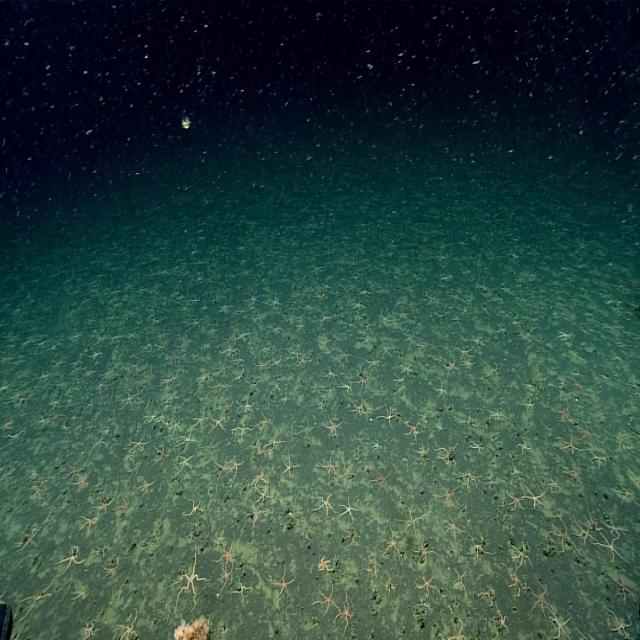brittle-stars: (163, 540, 210, 617), (13, 572, 58, 629), (524, 573, 559, 630), (394, 500, 434, 545), (12, 514, 43, 568), (408, 568, 447, 607), (308, 579, 344, 621), (269, 562, 302, 606), (546, 509, 574, 558), (333, 586, 358, 640), (596, 528, 628, 570), (51, 540, 90, 574), (113, 606, 149, 640), (462, 531, 496, 567), (433, 434, 463, 474), (409, 536, 441, 572), (214, 528, 240, 572), (502, 557, 528, 601), (602, 605, 634, 640), (612, 474, 640, 514), (99, 550, 127, 588), (439, 511, 471, 544), (522, 475, 548, 515), (546, 607, 576, 640), (68, 572, 94, 610), (371, 460, 394, 502), (382, 519, 401, 568), (608, 573, 636, 606), (576, 419, 604, 452), (570, 513, 595, 549), (552, 431, 585, 458), (437, 614, 471, 640), (173, 426, 202, 455), (263, 422, 291, 452), (434, 481, 462, 511), (508, 539, 538, 567), (255, 406, 281, 438), (317, 486, 338, 525), (492, 599, 513, 638), (72, 464, 96, 498), (74, 507, 102, 536), (504, 482, 527, 517), (314, 548, 340, 578), (234, 571, 255, 608), (293, 414, 318, 445), (376, 398, 398, 433), (450, 560, 469, 600), (149, 437, 172, 470), (243, 501, 270, 529), (601, 512, 629, 539), (321, 412, 347, 441), (475, 578, 500, 608), (339, 490, 361, 523), (318, 450, 342, 480), (215, 562, 235, 597), (566, 459, 588, 490), (198, 432, 222, 460), (361, 552, 382, 584), (350, 390, 368, 427), (209, 453, 231, 483), (468, 432, 490, 462), (217, 331, 237, 364), (184, 494, 206, 523), (158, 384, 185, 407), (80, 612, 102, 640), (252, 482, 276, 507), (128, 429, 154, 452), (460, 465, 483, 491), (438, 352, 461, 378), (238, 391, 260, 418), (366, 431, 388, 458), (513, 433, 535, 460), (558, 398, 577, 429), (431, 376, 452, 404), (28, 477, 51, 502), (118, 386, 141, 411), (228, 420, 254, 442), (338, 370, 357, 400), (339, 460, 360, 487), (520, 390, 540, 418), (362, 393, 380, 424), (96, 490, 115, 519), (114, 491, 134, 518), (340, 522, 362, 546), (229, 450, 246, 481), (192, 404, 210, 433), (250, 465, 268, 494), (335, 342, 355, 368), (136, 475, 158, 498), (209, 412, 231, 435), (280, 454, 298, 482), (177, 450, 197, 475), (592, 448, 614, 470), (156, 367, 179, 388), (584, 514, 608, 534), (546, 471, 563, 499), (484, 356, 501, 384), (91, 539, 110, 564), (355, 368, 374, 393), (302, 379, 328, 397), (405, 414, 421, 443), (487, 404, 508, 426), (383, 570, 400, 597), (413, 439, 432, 463), (387, 372, 408, 393), (90, 433, 110, 455), (64, 458, 82, 482), (252, 354, 273, 374), (244, 371, 264, 392), (233, 325, 253, 346), (127, 457, 143, 482), (316, 332, 336, 352), (285, 342, 305, 362), (363, 349, 382, 370), (230, 348, 248, 370), (452, 339, 475, 356), (270, 350, 285, 376), (170, 414, 188, 435), (458, 354, 479, 372), (144, 404, 161, 426), (256, 441, 272, 464), (170, 397, 186, 420), (206, 378, 230, 393), (396, 358, 416, 376), (296, 350, 313, 371), (232, 366, 248, 388), (324, 363, 341, 382), (25, 465, 42, 483), (314, 392, 331, 410), (218, 398, 237, 414), (512, 458, 523, 482), (86, 394, 99, 414), (400, 413, 416, 429), (198, 367, 210, 388), (258, 341, 274, 356), (426, 339, 442, 353), (97, 374, 110, 391), (0, 586, 10, 608), (122, 446, 134, 464), (157, 407, 168, 426), (38, 499, 54, 511)
